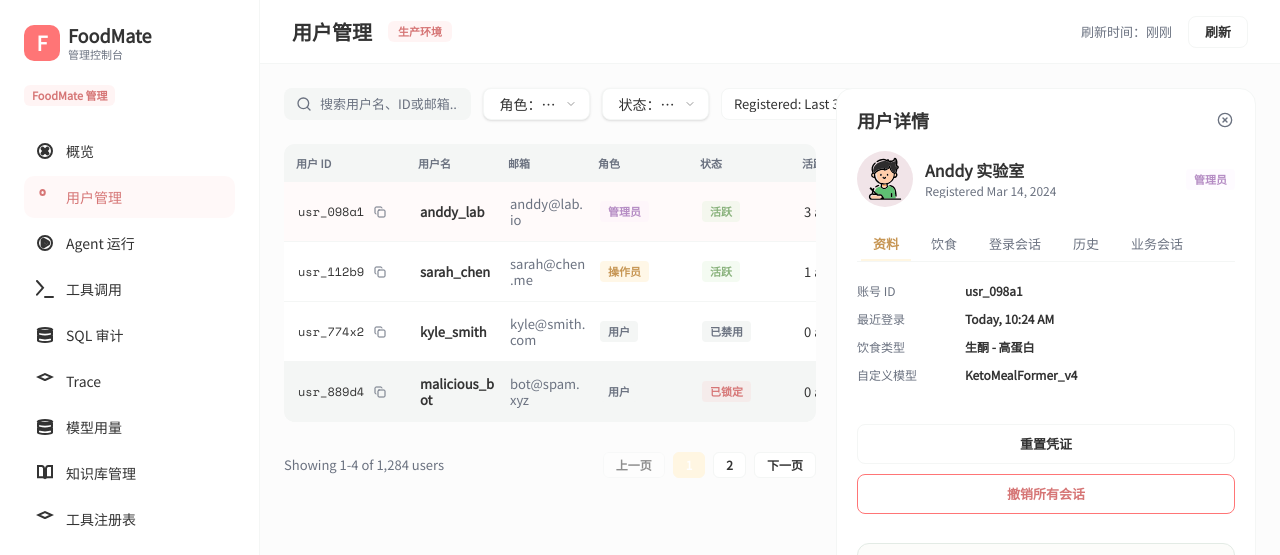
it: Admin user details › switches between dietary, business session and operation history tabs
Expected: the row "usr_098a1 anddy_lab anddy@lab.io 管理员 活跃 3 active" is shown, 284,182 -> 816,242
Click the tab "饮食".
click(944, 244)  # box 919,227 -> 969,261
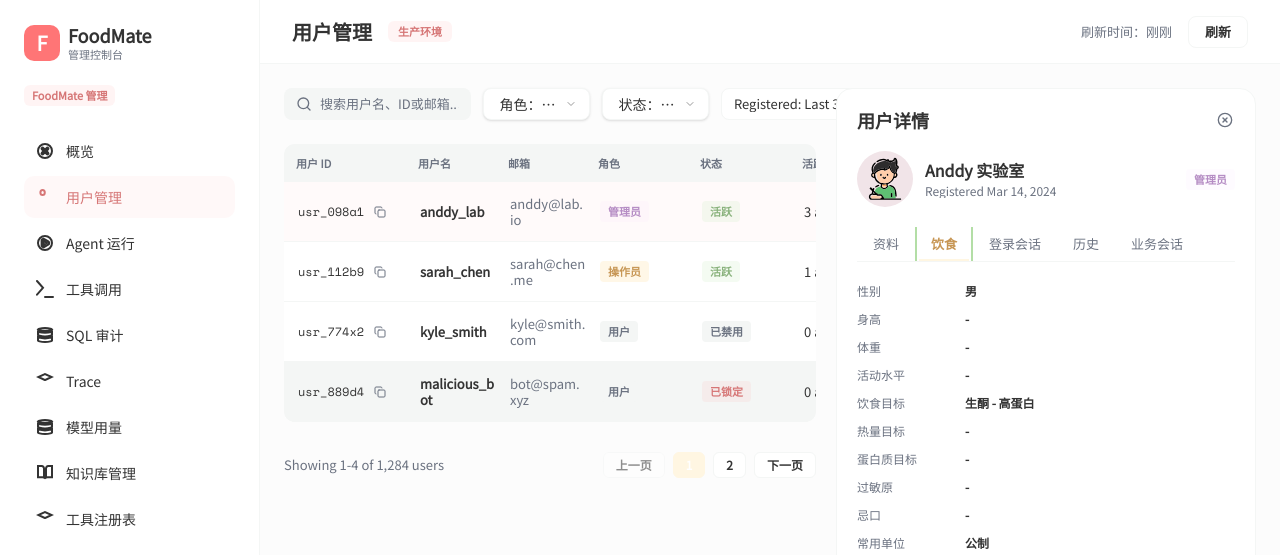
Expected: the text "蛋白质目标" is shown, 857,450 -> 917,467
Click the tab "业务会话".
click(1157, 244)  # box 1119,227 -> 1195,261
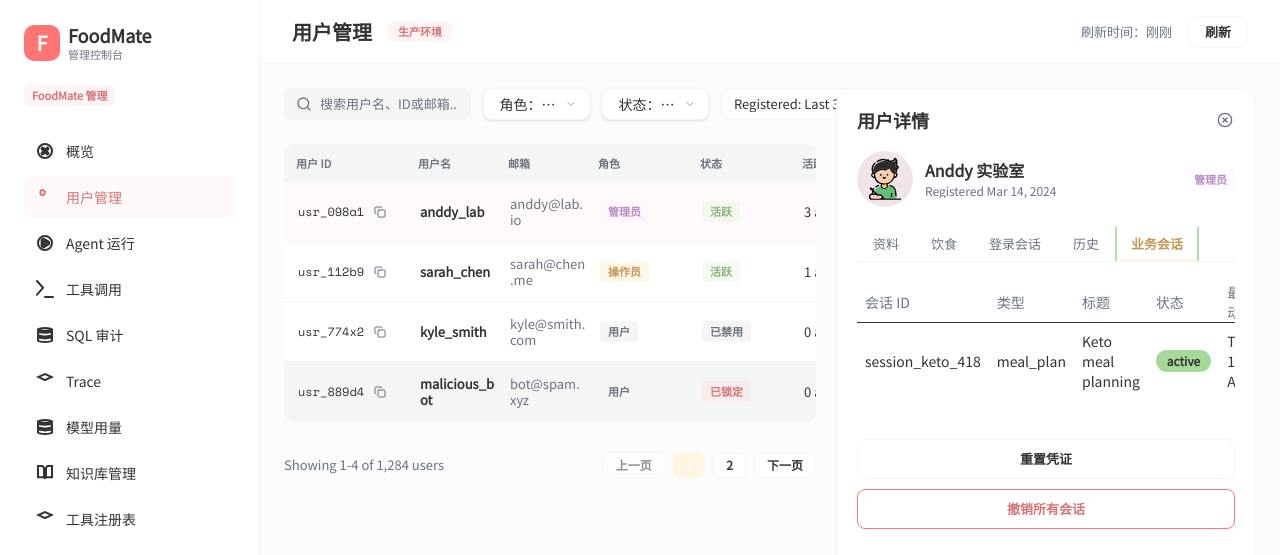
Expected: the text "session_keto_418" is shown, 857,322 -> 989,399
Expected: the text "Keto meal planning" is shown, 1074,322 -> 1148,399
Click the tab "历史".
click(1086, 244)  # box 1061,227 -> 1111,261
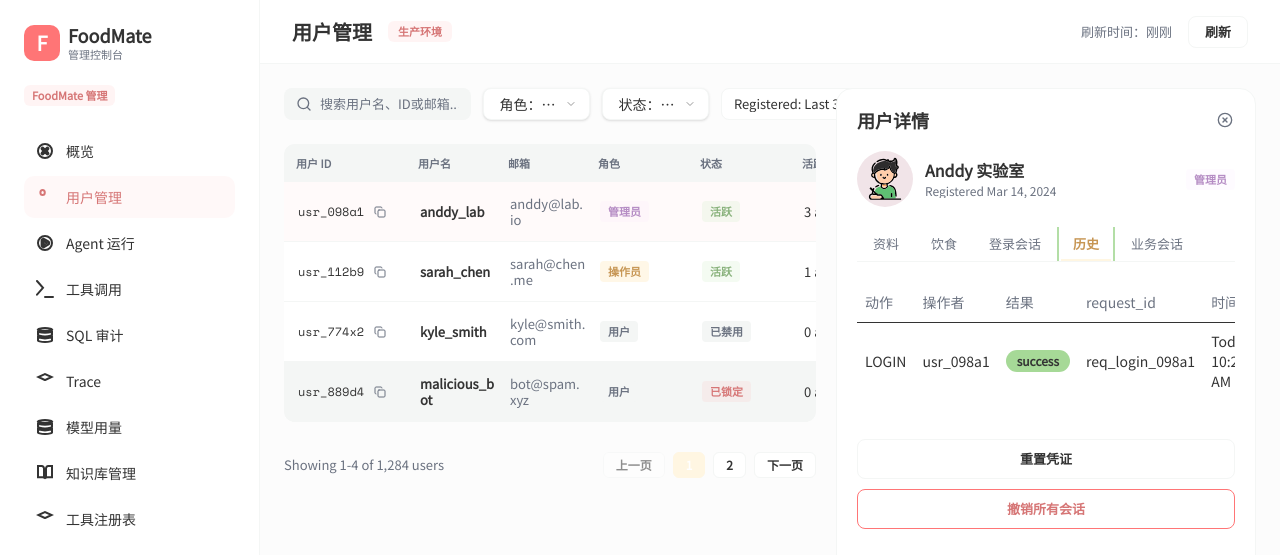
Expected: the text "LOGIN" is shown, 857,322 -> 914,398
Expected: the text "req_login_098a1" is shown, 1078,322 -> 1203,398
